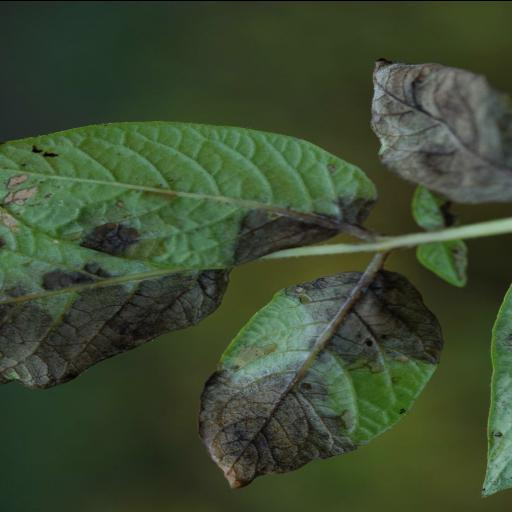Late Blight: (1, 120, 401, 390), (196, 266, 447, 488)
